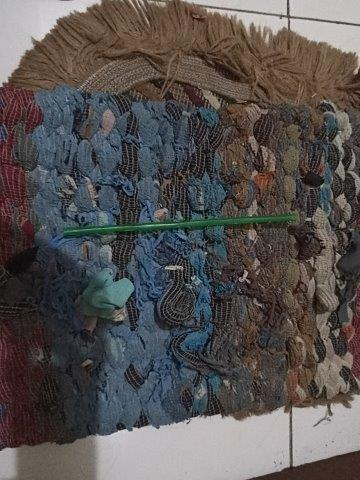sedotan: (64, 215, 293, 238)
